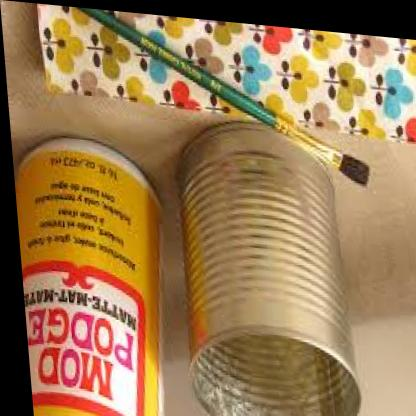Metal: (146, 103, 374, 416)
